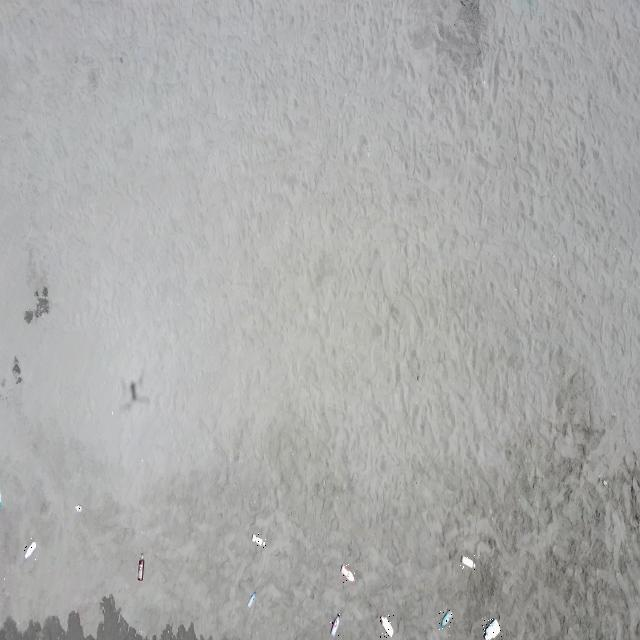Garbage: (121, 375, 148, 408), (511, 0, 540, 16), (484, 619, 499, 639), (437, 609, 452, 628), (13, 356, 22, 383), (380, 615, 392, 635), (340, 564, 353, 580), (331, 613, 339, 636), (460, 555, 475, 567), (24, 541, 35, 557), (252, 533, 264, 547), (247, 591, 256, 607), (136, 553, 141, 580), (75, 504, 80, 511), (0, 492, 2, 508), (602, 480, 607, 486)
